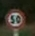limite 50: (4, 8, 25, 28)
